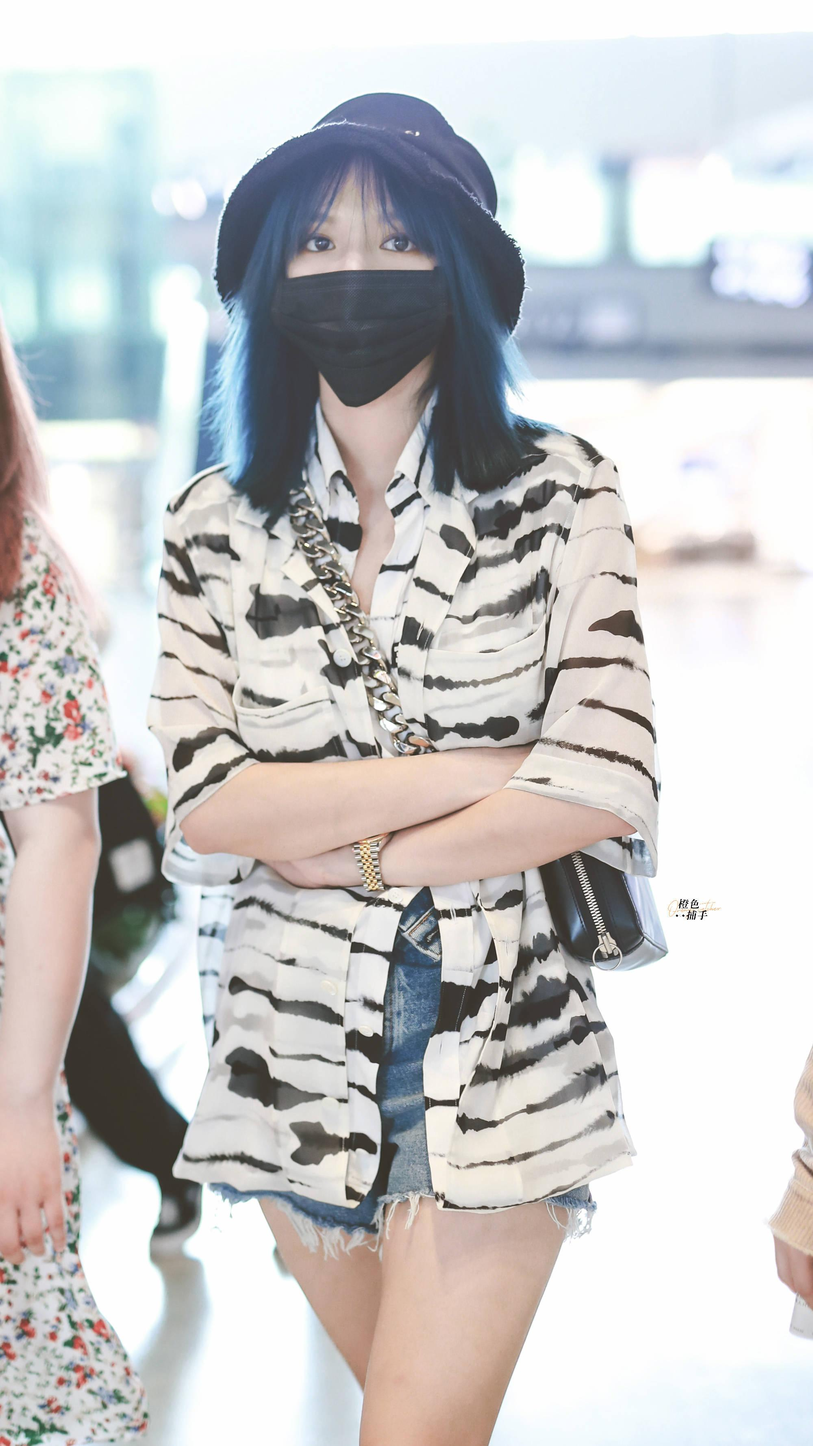OK: (278, 180, 452, 392)
